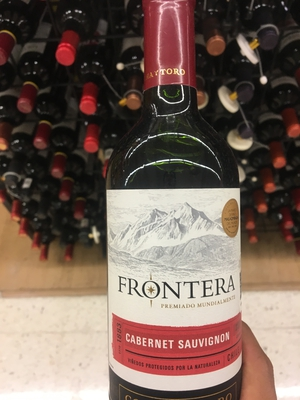frontera cabernet sauvignon: (97, 6, 249, 400)
